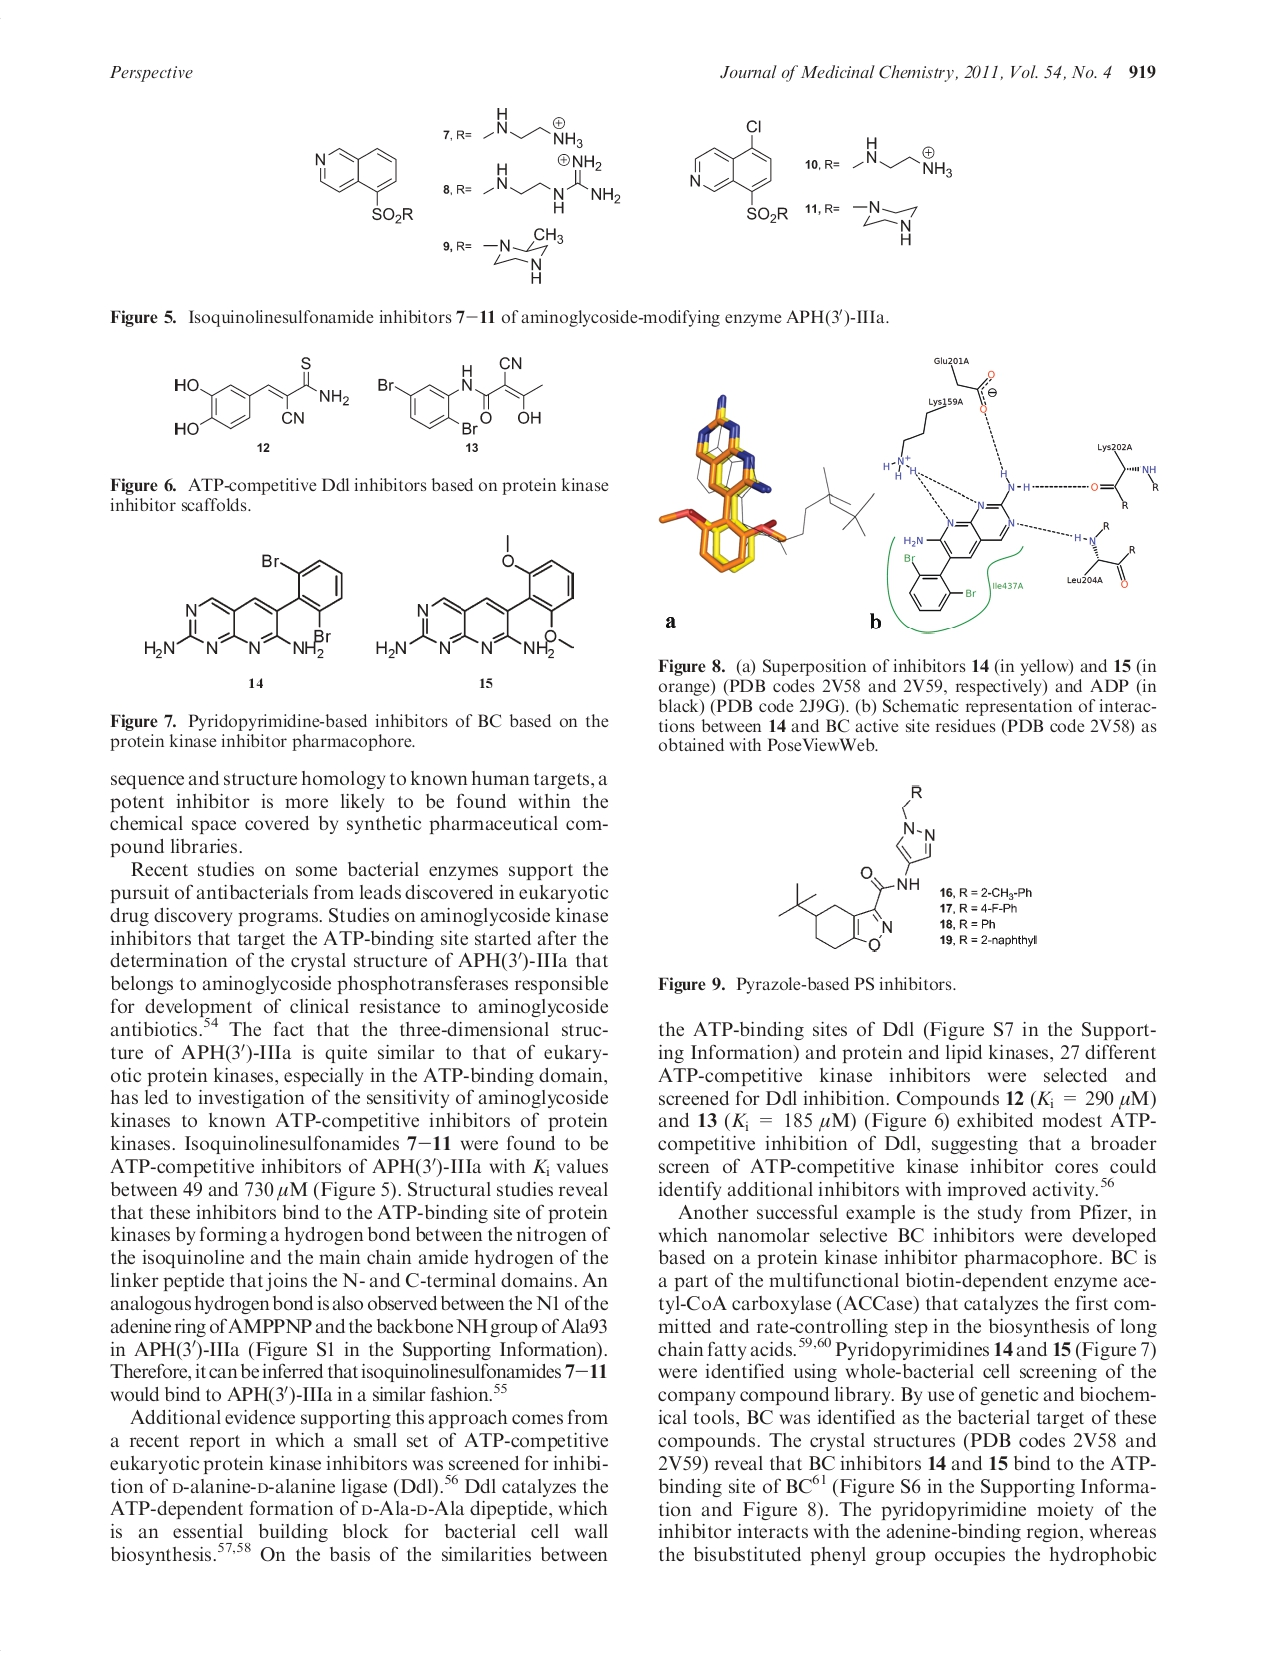exist_molecular: (375, 531, 585, 668), (777, 778, 938, 952), (141, 551, 348, 665), (902, 468, 1037, 614), (170, 352, 352, 440), (374, 352, 547, 440), (684, 110, 790, 229), (481, 149, 624, 218), (310, 137, 414, 230), (880, 394, 967, 480), (1063, 515, 1150, 596), (850, 124, 955, 190), (476, 223, 569, 294), (1088, 432, 1168, 509), (481, 98, 589, 150), (848, 189, 926, 257), (931, 350, 1001, 414)
